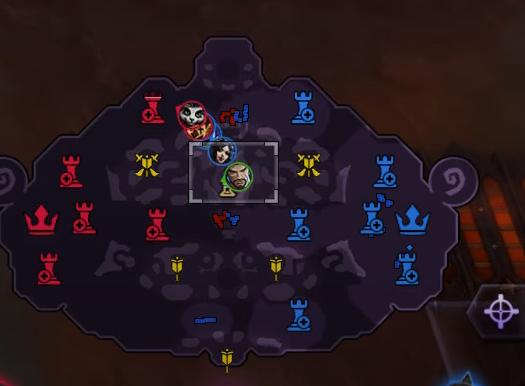blue nexus: (394, 204, 431, 236)
blue player: (205, 134, 240, 167)
blue tower: (390, 249, 425, 290), (284, 202, 316, 245), (369, 149, 400, 192), (359, 201, 386, 236), (290, 90, 317, 124), (286, 298, 312, 331)
red nexus: (23, 204, 60, 235)
red player: (173, 97, 211, 135)
red tower: (69, 201, 98, 235), (139, 89, 166, 125), (144, 208, 170, 241), (37, 252, 62, 286), (59, 154, 84, 188)
